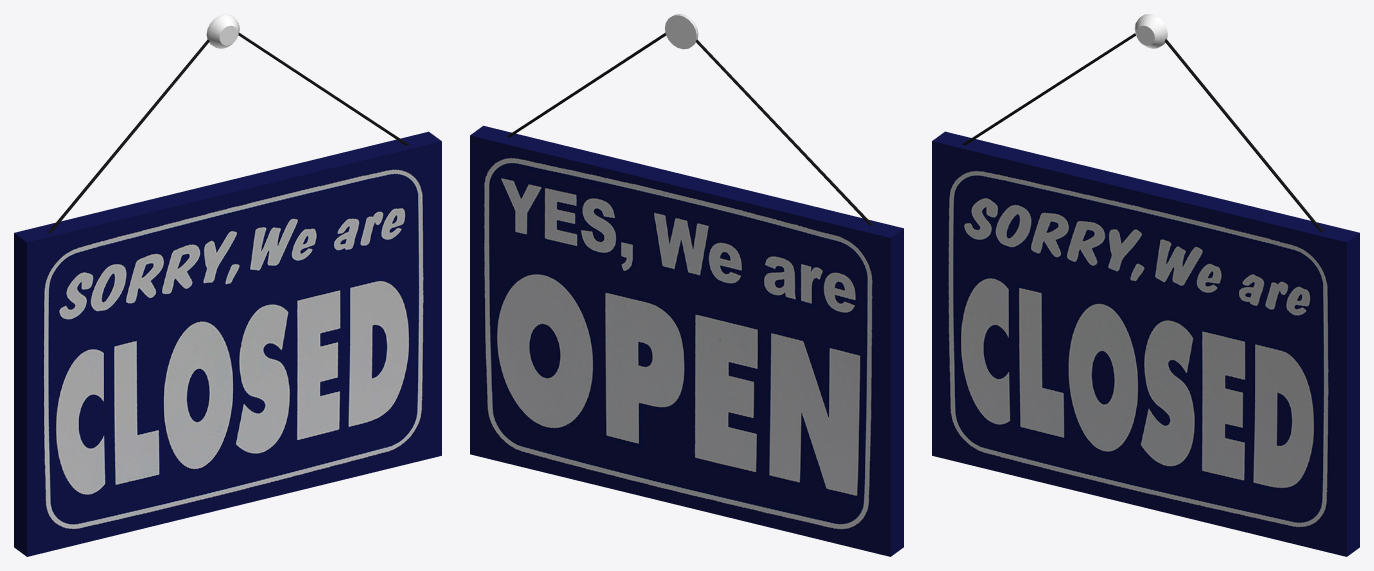
File: OpenClose picture.fbx
3 views of the same model, side by side, from view 1: azimuth 30°, elevation 25°; view 2: azimuth 150°, elevation 25°; view 3: azimuth 330°, elevation 25° (orthographic).
Visible parts, largest first — view 1: Openclose picture; view 2: Openclose picture; view 3: Openclose picture.
Boxes of the visible parts, x1=… form: Openclose picture: x1=14, y1=14, x2=441, y2=556; Openclose picture: x1=470, y1=14, x2=903, y2=556; Openclose picture: x1=932, y1=14, x2=1359, y2=556.
Bounding box in the file's own units: 30.66 × 34.09 × 1.68.
Materials: 1 (1 with a texture image).
